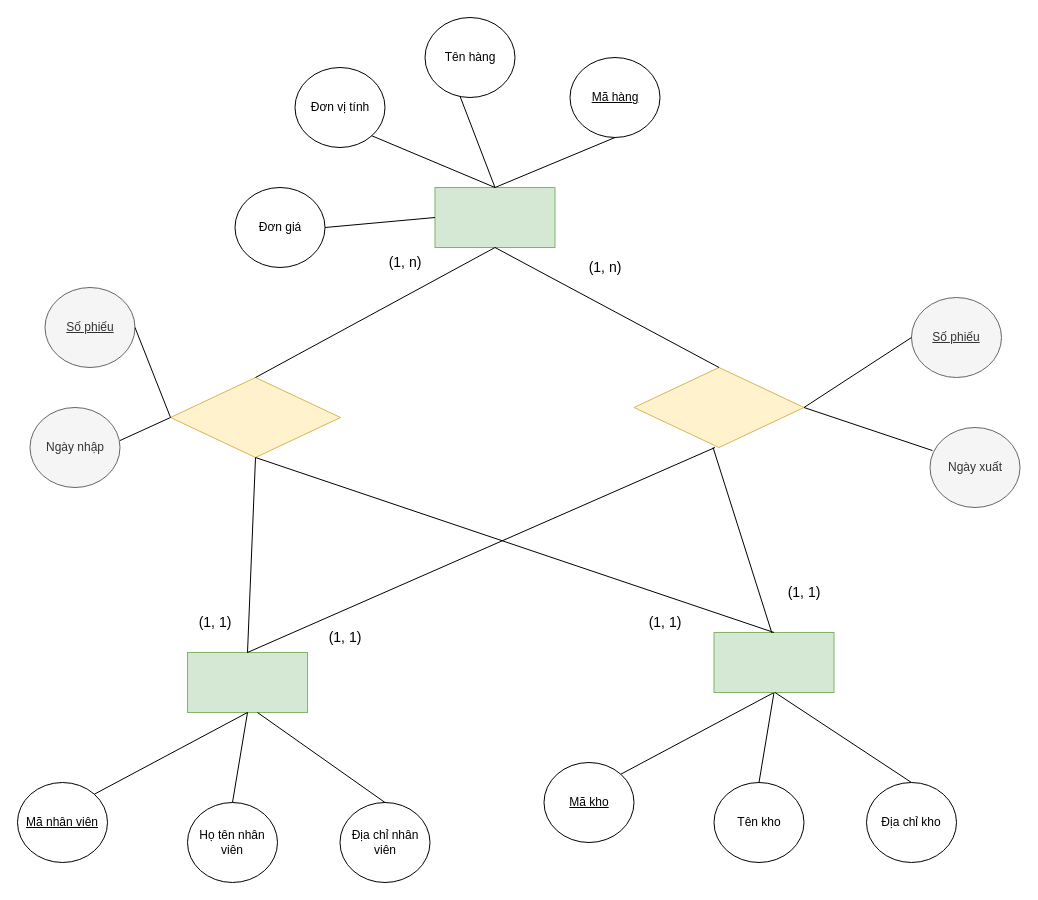
The diagram is 1038 pixels wide and 900 high, and some of its shapes have lost their labels. Each missing label, with the centre of its shape:
HÀNG HÓA: [494,217]
KHO: [773,662]
NHÂN VIÊN: [247,682]
PHIẾU NHẬP KHO: [255,417]
PHIẾU XUẤT KHO: [718,407]
